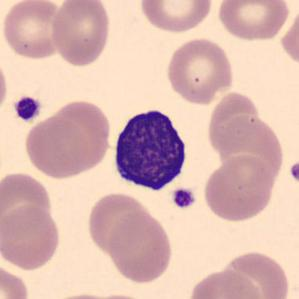Lymphocyte: (108, 102, 193, 195)
Platelets: (11, 94, 43, 122), (171, 187, 198, 210), (287, 160, 299, 185)
RBC: (40, 96, 114, 176), (213, 113, 287, 188), (106, 209, 176, 285), (201, 154, 277, 224), (163, 36, 236, 106), (22, 114, 92, 180), (85, 189, 152, 256), (49, 0, 113, 68), (0, 203, 63, 271), (0, 0, 67, 60), (217, 247, 292, 299), (205, 90, 261, 156), (0, 168, 55, 232), (215, 0, 292, 43), (138, 0, 215, 35), (186, 267, 265, 299), (279, 4, 299, 69), (0, 261, 31, 299), (43, 290, 124, 299), (0, 52, 10, 118), (88, 291, 157, 299)
